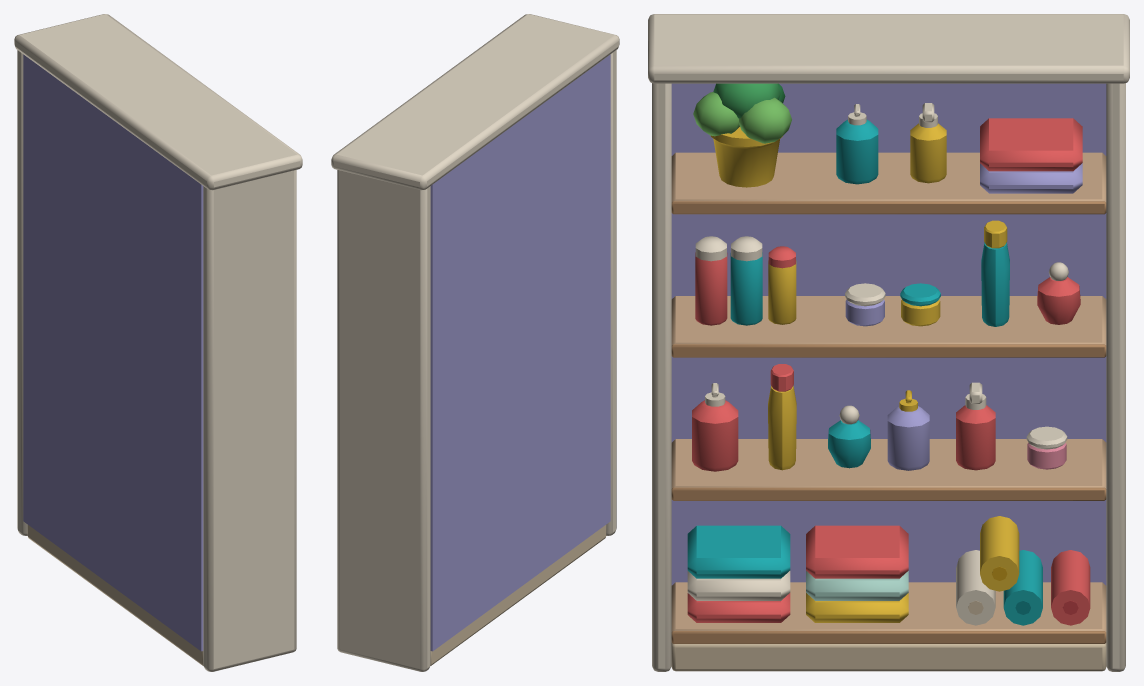
File: shelf.glb
3 views of the same model, side by side, from view 1: azimuth 30°, elevation 25°; view 2: azimuth 150°, elevation 25°; view 3: azimuth 270°, elevation 25° (orthographic). The views are drawn at different scales.
Parts seen in each view (by area): view 1: Shelf; view 2: Shelf; view 3: Shelf.
Part boxes in pixels (<box>): Shelf: <box>14,14,302,671</box>; Shelf: <box>331,14,619,671</box>; Shelf: <box>648,14,1129,671</box>.
Bounding box in the file's own units: 0.34 × 1.7 × 1.22.
